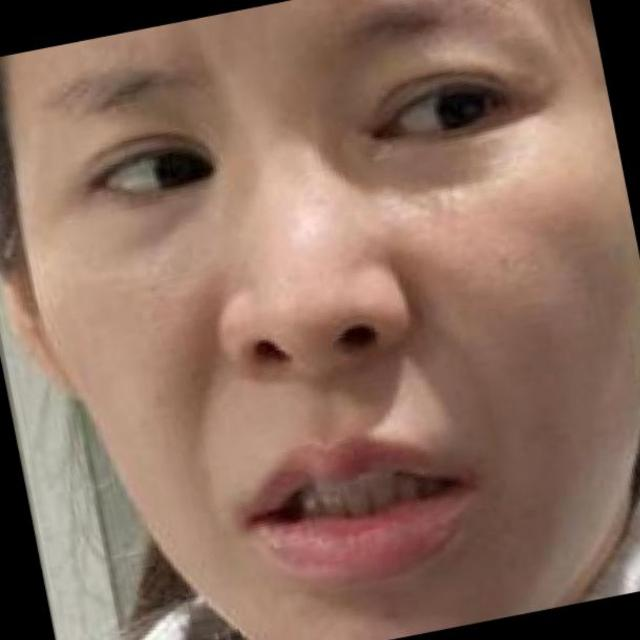Disgust: (46, 10, 612, 640)
